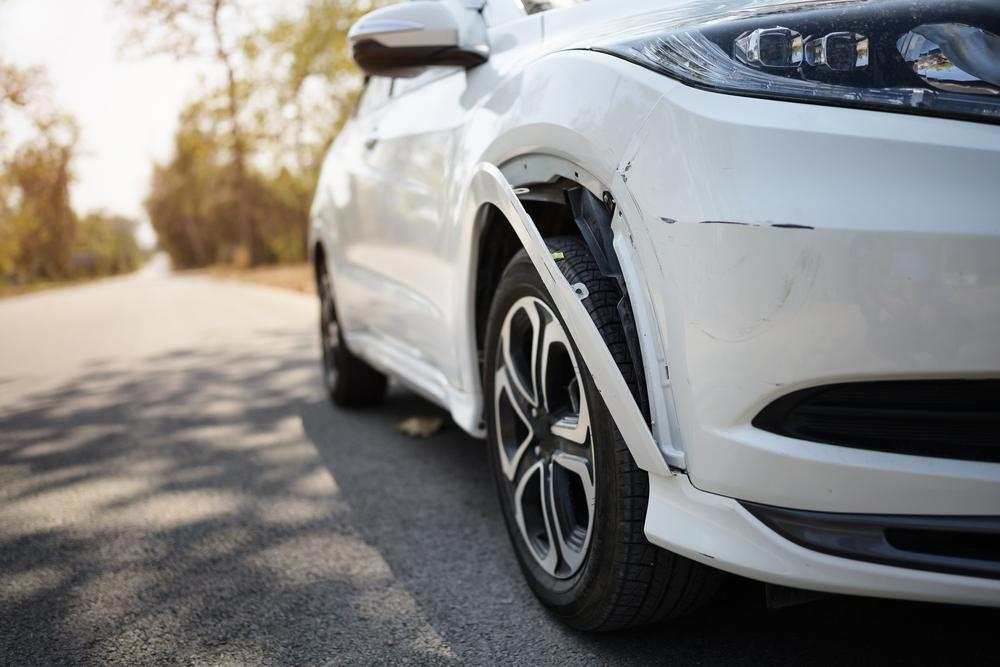scratch: (656, 213, 826, 337)
